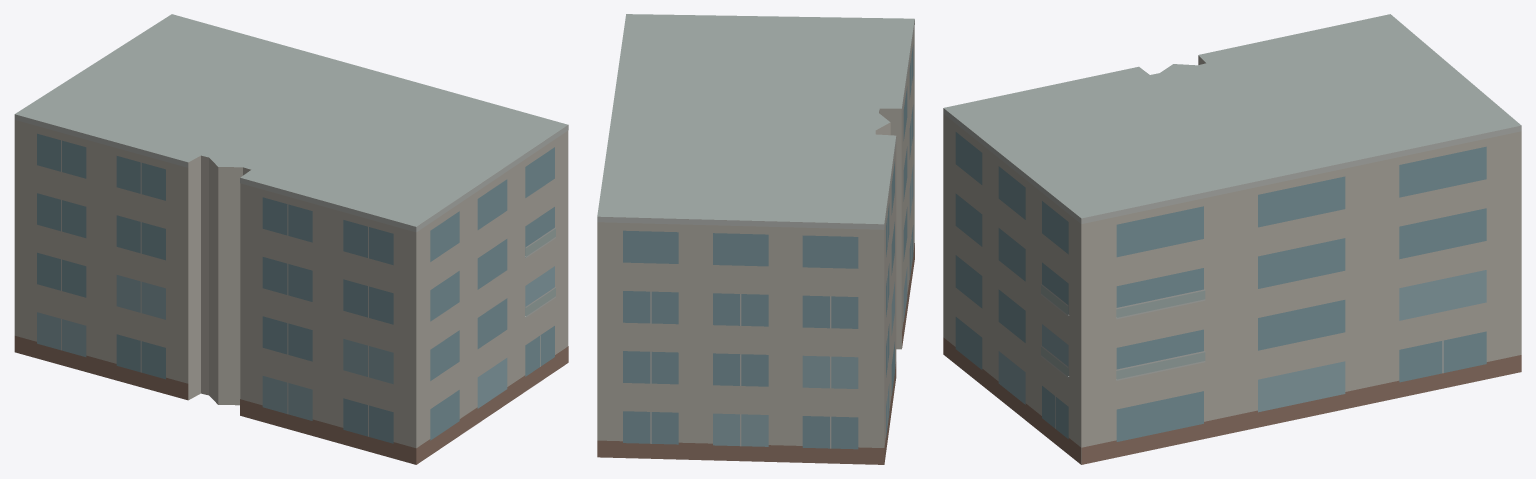
The model's file is survey-upis-32743000.glb.
3 views of the same model, side by side, from view 1: azimuth 30°, elevation 25°; view 2: azimuth 150°, elevation 25°; view 3: azimuth 270°, elevation 25° (orthographic). The views are drawn at different scales.
Visible parts, largest first — view 1: survey-upis-32743000.tmp; view 2: survey-upis-32743000.tmp; view 3: survey-upis-32743000.tmp.
Part boxes in pixels (x1=…): survey-upis-32743000.tmp: x1=14, y1=14, x2=568, y2=464; survey-upis-32743000.tmp: x1=597, y1=14, x2=914, y2=464; survey-upis-32743000.tmp: x1=943, y1=14, x2=1521, y2=464.
Size of the model in its own units: 18.69 by 10.5 by 22.34.
